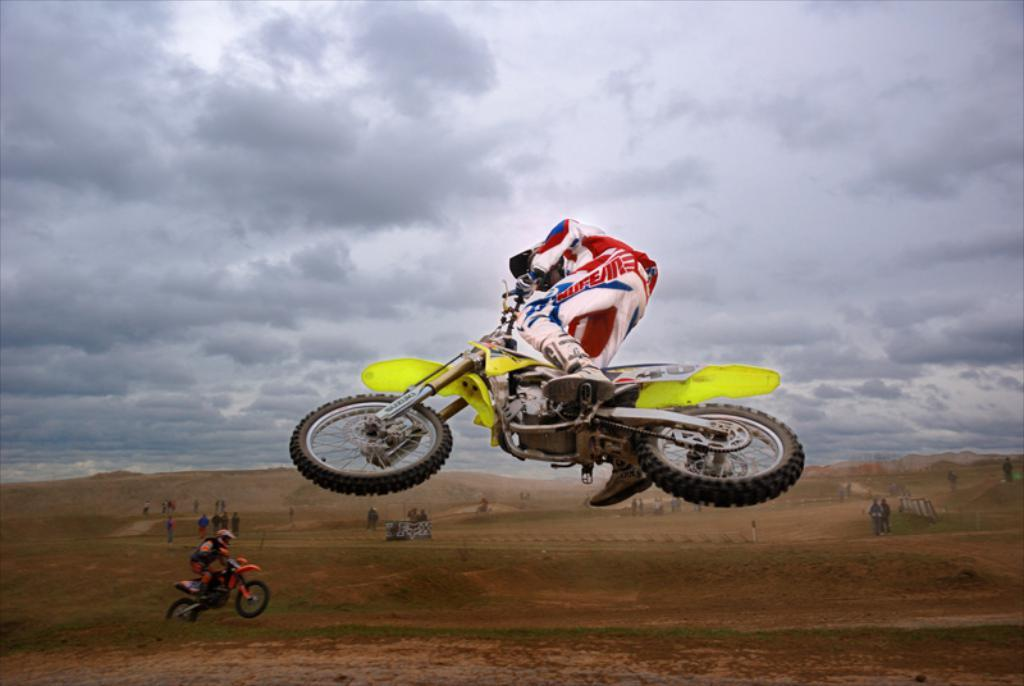helmet: (215, 528, 236, 549)
